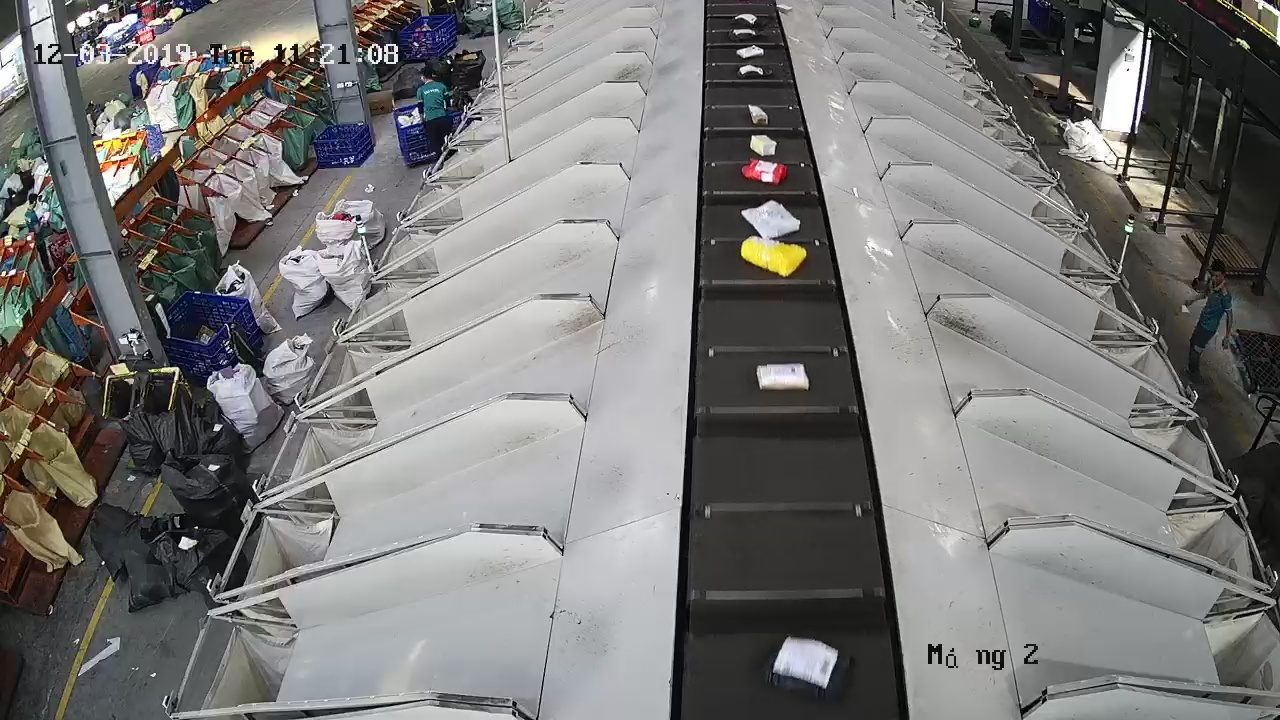parcel: (764, 633, 854, 703), (755, 362, 811, 393), (741, 159, 788, 187)
